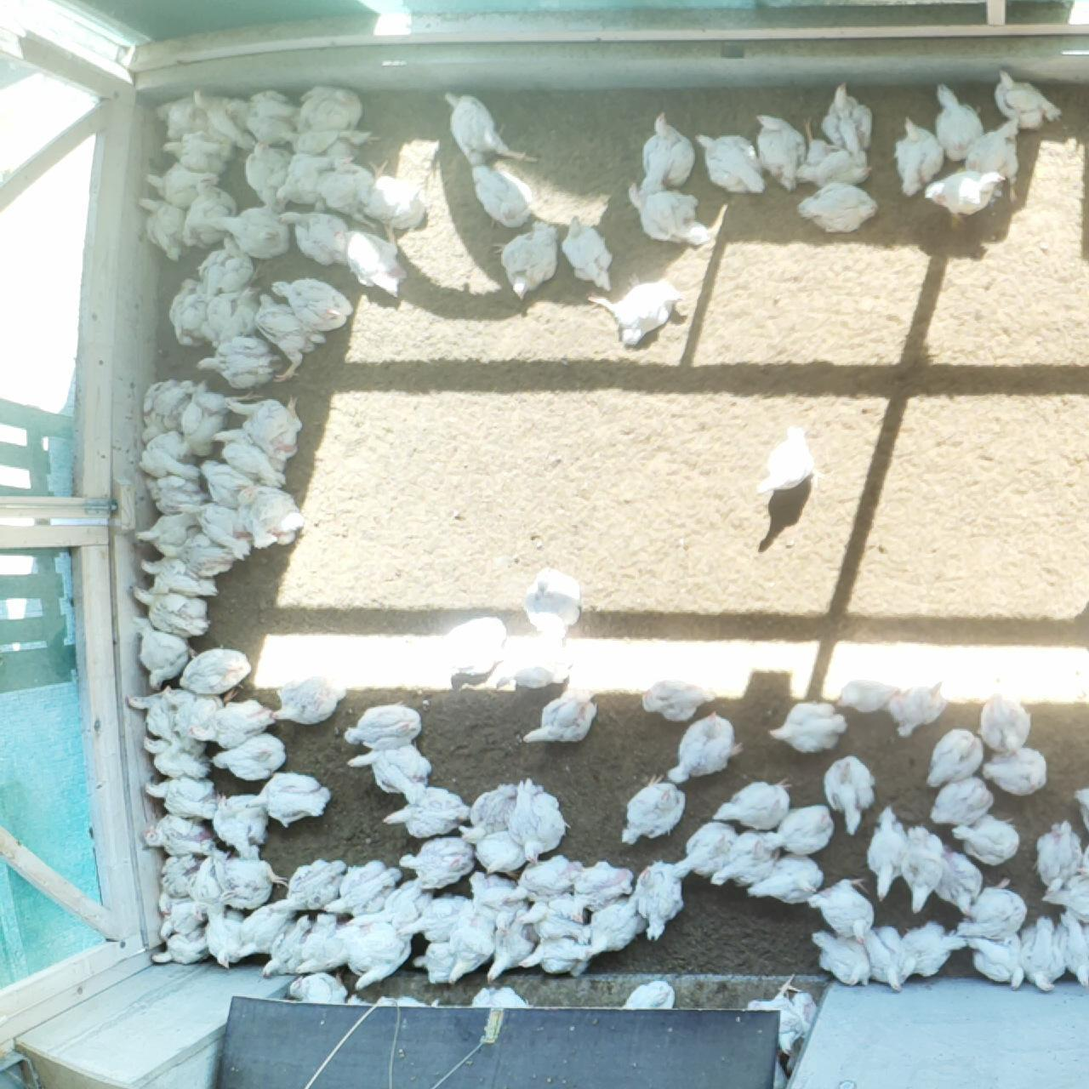chicken: (444, 91, 539, 162), (253, 293, 326, 383), (588, 279, 684, 345), (181, 391, 264, 456), (795, 117, 874, 185), (509, 778, 570, 864), (668, 712, 742, 781), (130, 617, 199, 689), (493, 221, 556, 298), (336, 231, 408, 298), (621, 773, 686, 847), (247, 773, 332, 829), (224, 398, 302, 459), (628, 183, 707, 243), (746, 972, 803, 1054), (210, 429, 286, 489), (757, 425, 825, 492), (217, 846, 288, 910), (171, 503, 250, 560), (323, 859, 402, 916), (925, 170, 1006, 225), (197, 336, 282, 388), (362, 175, 426, 244), (348, 921, 412, 990), (272, 277, 352, 332), (694, 134, 767, 194), (966, 118, 1018, 202), (958, 877, 1028, 939), (797, 181, 880, 233), (809, 879, 875, 944), (238, 485, 305, 549), (189, 700, 274, 750), (163, 686, 240, 741), (142, 379, 208, 443), (383, 788, 470, 836), (346, 745, 431, 794), (823, 755, 875, 835), (901, 920, 967, 983), (642, 111, 695, 189), (710, 829, 781, 887), (747, 852, 824, 905), (712, 778, 790, 830), (755, 114, 807, 192), (226, 89, 298, 145), (635, 860, 684, 942), (995, 69, 1063, 128), (894, 117, 944, 197), (212, 208, 290, 259), (586, 897, 648, 961), (525, 567, 580, 639), (561, 215, 613, 291), (768, 702, 847, 752), (867, 806, 908, 902), (571, 860, 633, 923), (132, 586, 210, 636), (198, 235, 264, 294), (185, 174, 237, 248), (400, 836, 474, 888), (193, 88, 255, 150), (522, 693, 597, 744), (272, 673, 345, 725), (472, 166, 533, 228), (210, 733, 287, 782), (935, 83, 983, 161), (934, 844, 984, 918), (145, 813, 229, 857), (902, 825, 943, 915), (517, 894, 590, 944), (762, 803, 835, 853), (235, 898, 299, 955), (674, 822, 738, 879), (442, 617, 506, 674), (212, 794, 268, 859), (279, 212, 347, 265), (276, 153, 335, 214), (344, 704, 422, 750), (286, 85, 362, 132), (469, 870, 527, 931), (821, 82, 873, 150), (244, 140, 293, 212), (321, 162, 375, 227), (452, 904, 496, 983), (951, 814, 1019, 865), (506, 855, 584, 899), (463, 783, 517, 846), (497, 643, 572, 688), (927, 728, 984, 787), (283, 128, 381, 162), (180, 648, 252, 694), (1022, 915, 1066, 990), (487, 921, 539, 984), (263, 915, 315, 977), (288, 858, 347, 912), (890, 684, 949, 738), (206, 288, 259, 348), (642, 678, 714, 722), (1036, 819, 1082, 887), (299, 913, 352, 972), (137, 198, 185, 263), (140, 556, 218, 596), (163, 131, 235, 174), (968, 933, 1023, 989), (931, 776, 995, 824), (145, 778, 216, 821), (410, 892, 472, 941), (139, 430, 201, 478), (813, 932, 869, 985), (979, 693, 1031, 750), (983, 748, 1046, 795), (127, 689, 185, 740), (146, 162, 211, 207), (158, 855, 205, 917), (518, 937, 592, 976), (864, 926, 908, 991), (201, 459, 257, 510), (169, 278, 210, 347), (142, 737, 211, 778), (381, 877, 434, 930), (186, 849, 224, 921), (136, 515, 202, 556), (475, 830, 528, 881), (145, 476, 208, 516), (179, 533, 237, 576), (151, 926, 209, 966), (207, 909, 246, 967), (1041, 875, 1089, 922), (288, 967, 347, 1005), (157, 96, 208, 139), (1060, 911, 1089, 986), (836, 679, 898, 712), (412, 942, 457, 984), (160, 901, 208, 939), (623, 980, 674, 1008), (791, 991, 818, 1041), (470, 987, 532, 1007), (1075, 788, 1089, 831)
